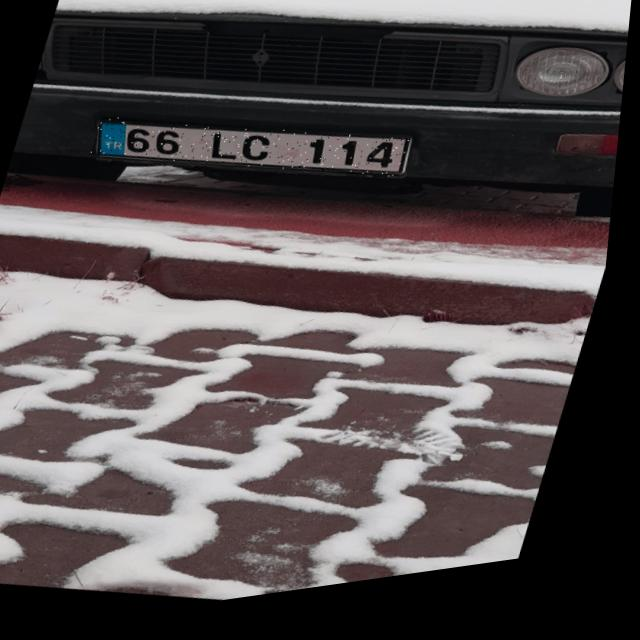license_plate: (88, 84, 418, 224)
